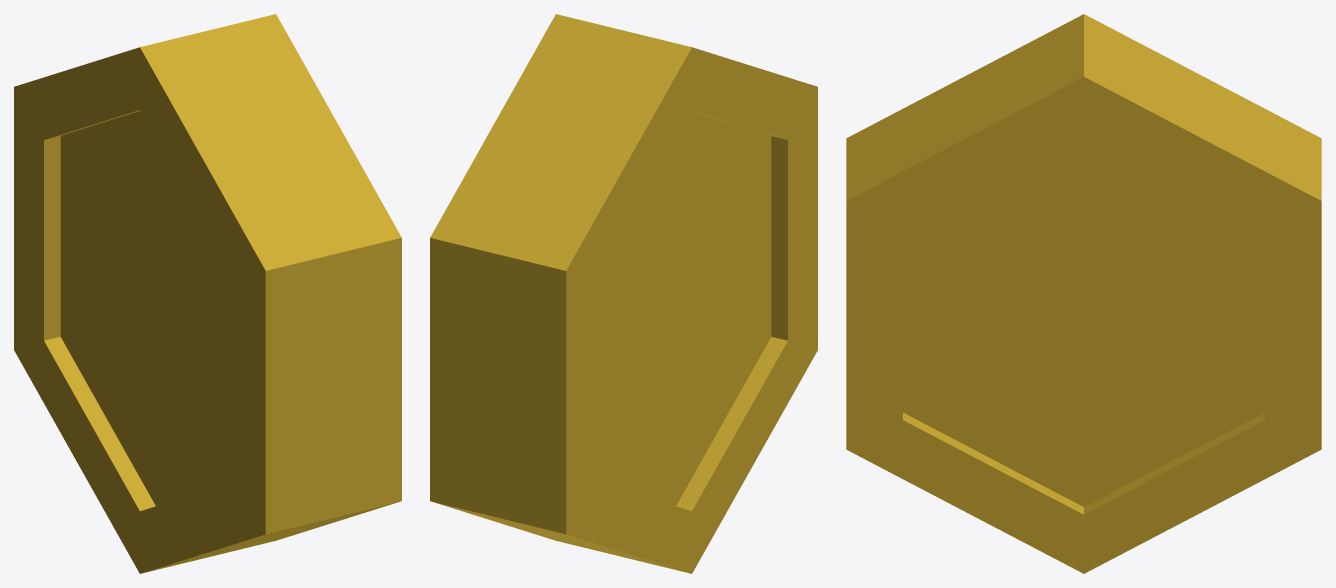
The model's file is coin.fbx.
The picture shows the model from 3 angles, left to right: view 1: azimuth 30°, elevation 25°; view 2: azimuth 150°, elevation 25°; view 3: azimuth 270°, elevation 25°; orthographic projection. The views are drawn at different scales.
Parts seen in each view (by area): view 1: Cylinder; view 2: Cylinder; view 3: Cylinder.
Boxes of the visible parts, <box> form: Cylinder: <box>14,14,401,573</box>; Cylinder: <box>430,14,817,573</box>; Cylinder: <box>846,14,1321,573</box>.
Bounding box in the file's own units: 27.04 × 100 × 86.6.
